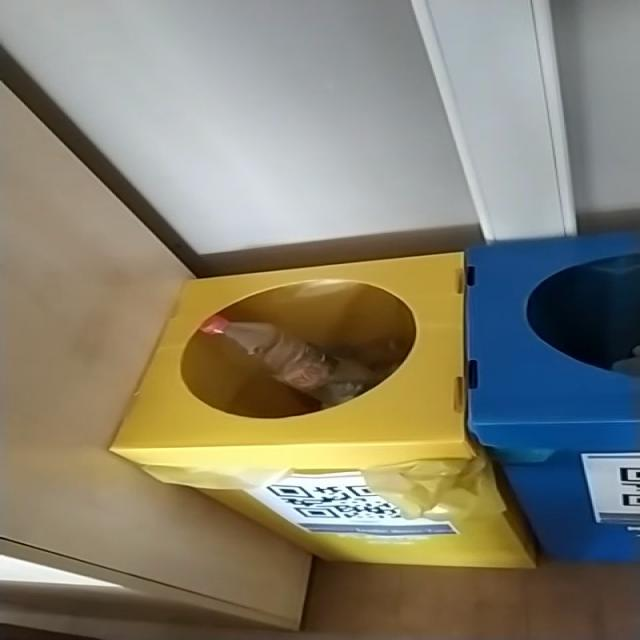plastic: (223, 323, 277, 355)
